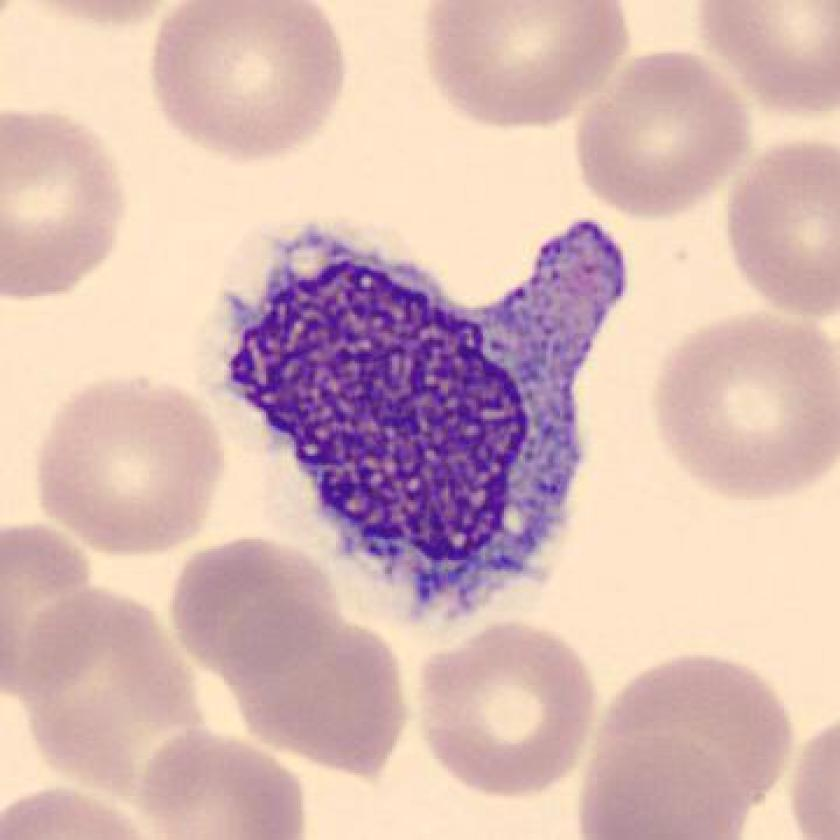monocyte: (195, 191, 654, 649)
